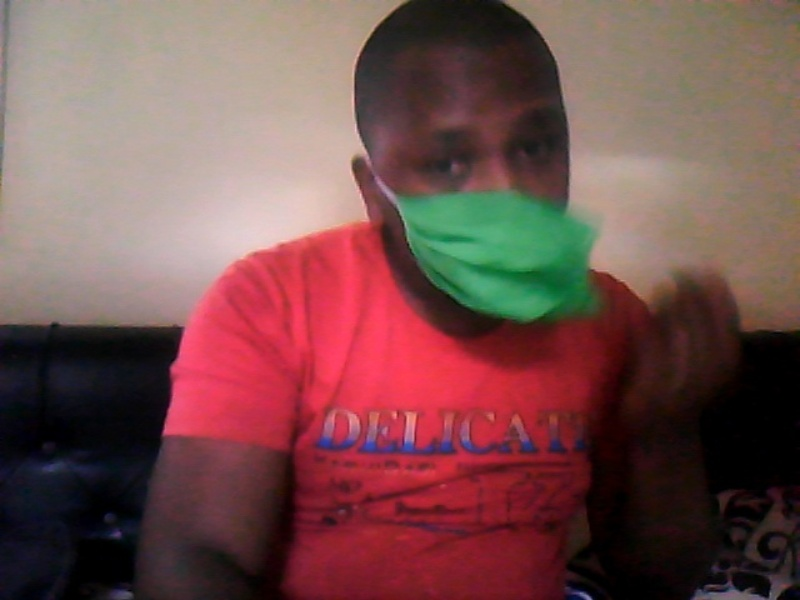ManaoArotava: (346, 22, 608, 327)
